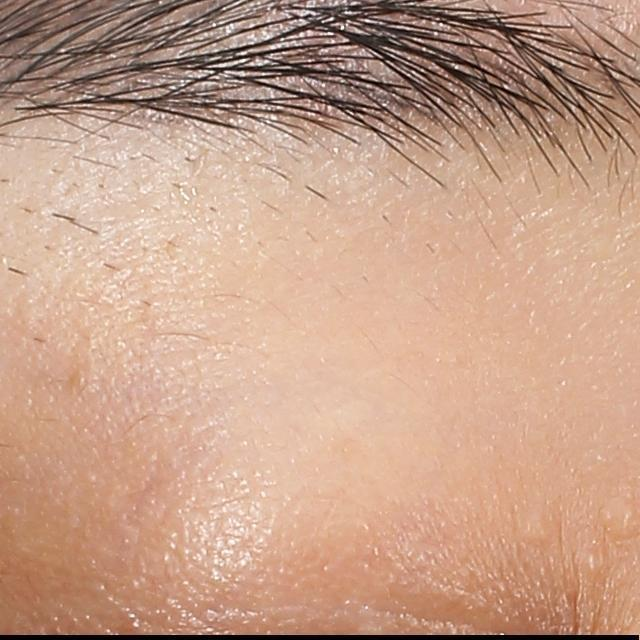comedo: (575, 548, 606, 579)
